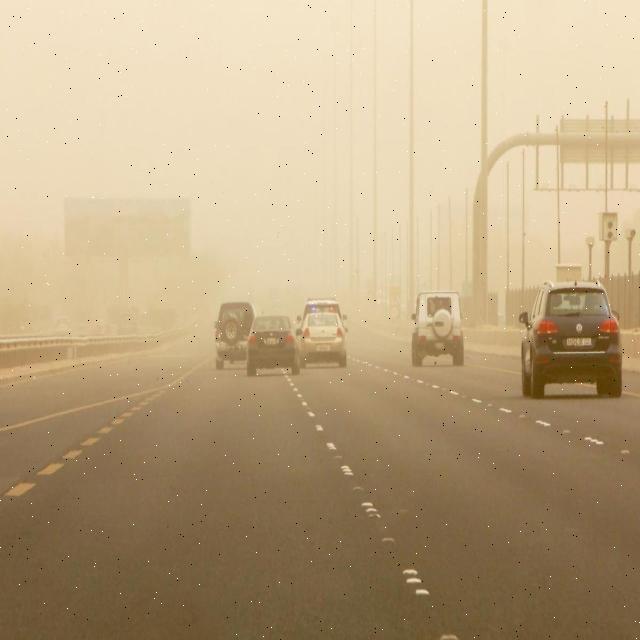car: (518, 280, 622, 400), (412, 290, 464, 368), (248, 314, 300, 376), (298, 312, 348, 368), (214, 302, 254, 368), (297, 293, 348, 333)
